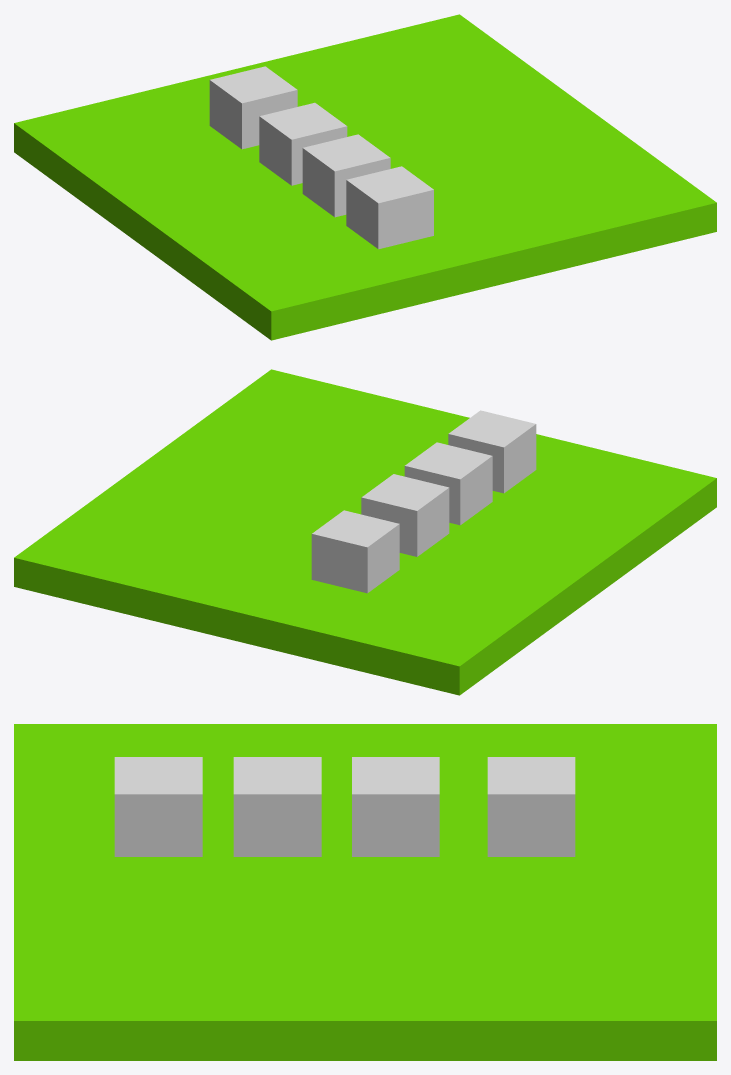
Rendered from BlockTypeMiddle-6.fbx.
3 renders of one model, top to bottom at view 1: azimuth 30°, elevation 25°; view 2: azimuth 150°, elevation 25°; view 3: azimuth 270°, elevation 25°, orthographic. The views are drawn at different scales.
Parts seen in each view (by area): view 1: Cube, Cube.004, Cube.002, Cube.003, Cube.001; view 2: Cube, Cube.002, Cube.001, Cube.004, Cube.003; view 3: Cube, Cube.002, Cube.003, Cube.004, Cube.001.
Boxes of the visible parts, x1,y1,x2,y2 form: Cube: (14,14,716,340); Cube.004: (346,166,433,249); Cube.002: (209,66,297,149); Cube.003: (302,134,390,217); Cube.001: (259,102,347,185); Cube: (14,369,716,695); Cube.002: (311,510,399,593); Cube.001: (361,474,449,556); Cube.004: (448,410,536,493); Cube.003: (404,442,492,525); Cube: (14,724,716,1060); Cube.002: (487,757,575,856); Cube.003: (233,757,321,856); Cube.004: (114,757,202,856); Cube.001: (352,757,439,856).
Size of the model in its own units: 800 by 129 by 800.
